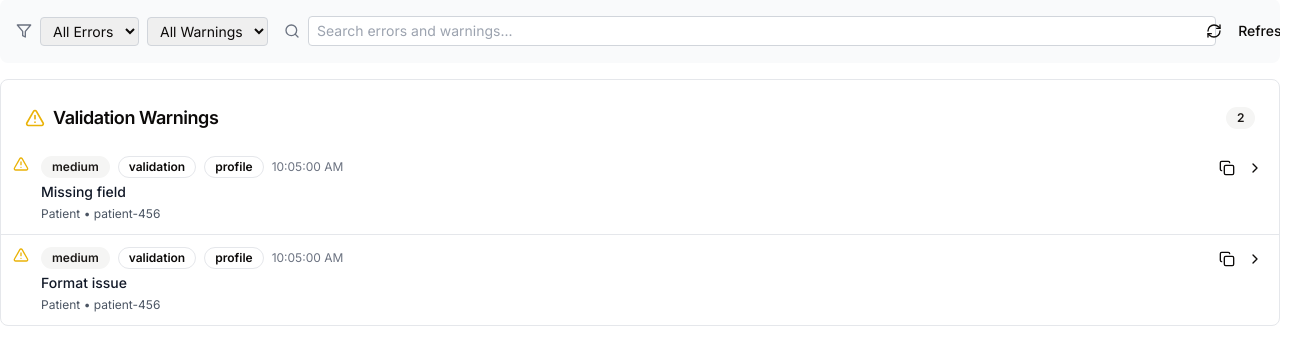
it: ValidationErrorWarningDisplay › Warning Filtering › filters warnings by search term
Note: Search for "field"
Type "field" into the field with placeholder "Search errors and warnings..." at (762, 31), box [308,16,1216,46]
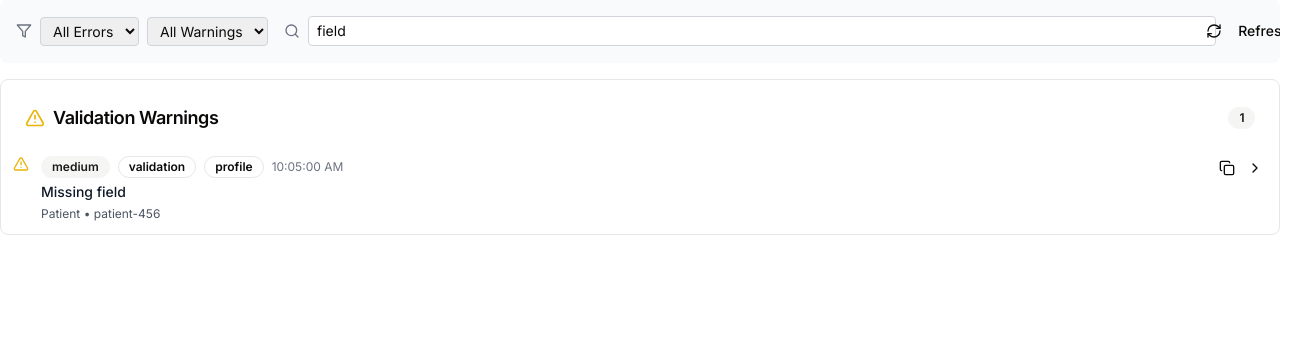
Expected: the text "Missing field" is shown, [41,183,126,200]
Result: the text "Format issue" is gone
